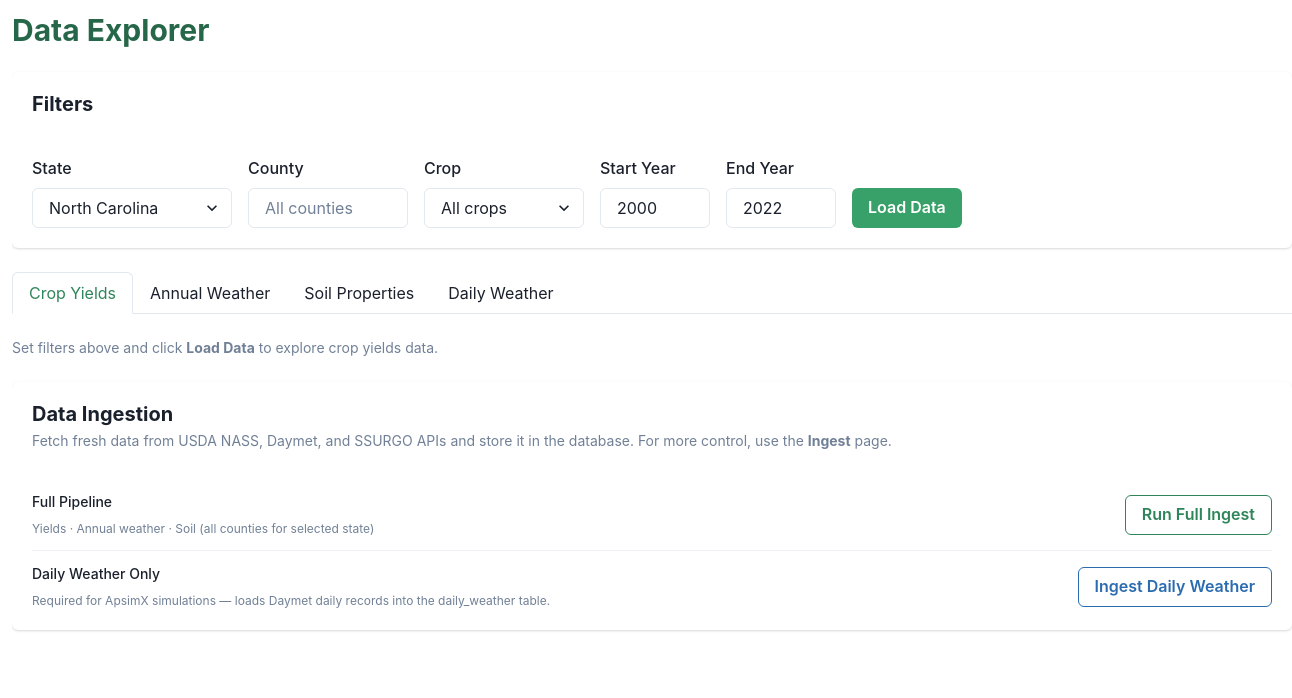
Test case: Data Explorer – loading data › shows empty state alert when API returns no data
expect the tab "Crop Yields" is shown: met, box [12,272,133,314]
Click the button "Load Data": point(907, 208) [852,188,962,228]
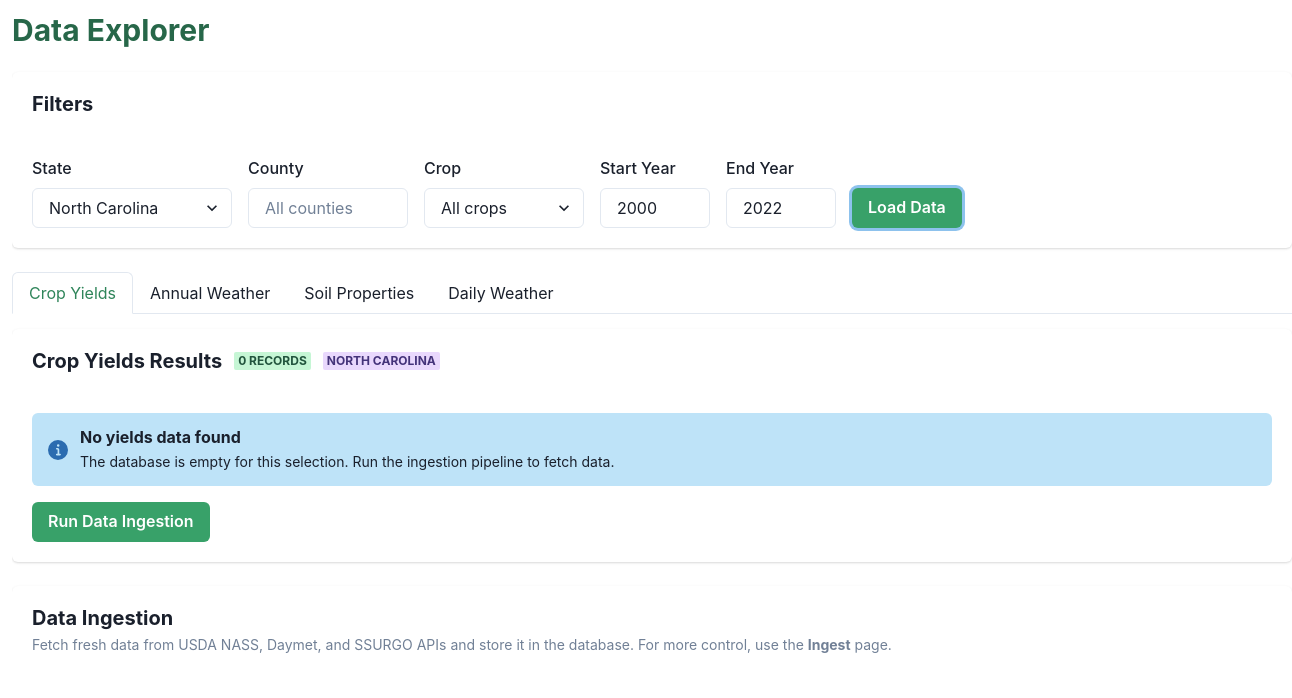
expect the text "No yields data found" is shown: met, box [80,427,241,447]
expect the button "Run Data Ingestion" is shown: met, box [32,502,210,542]
